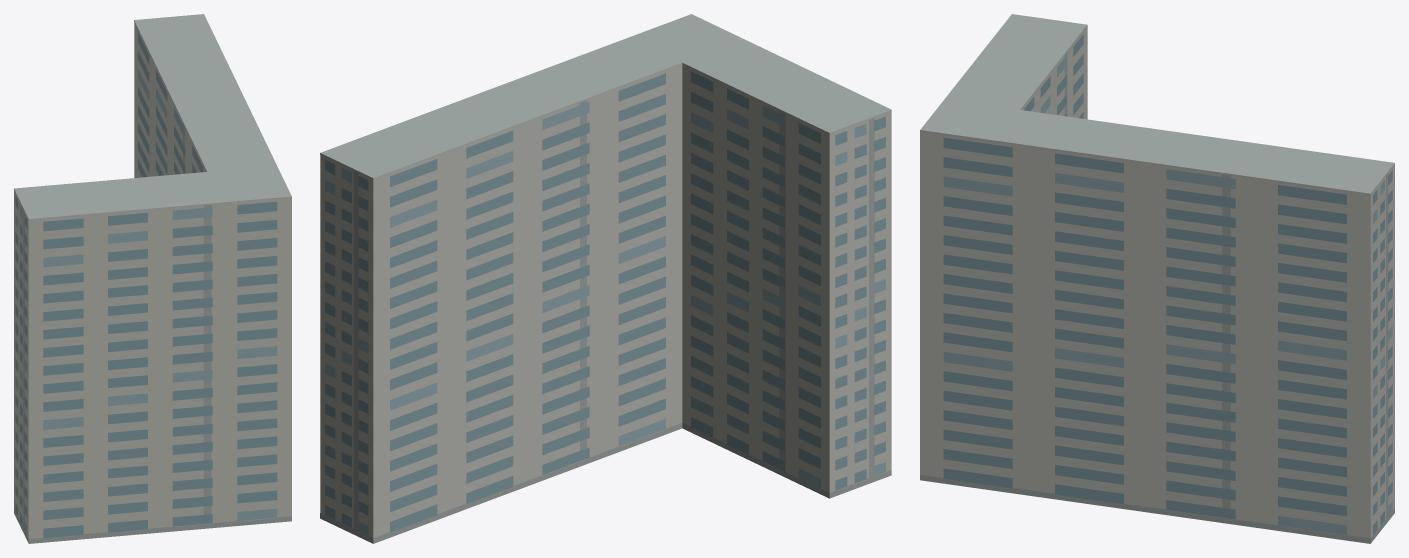
Rendered from residential-3fad8700-8748-481a-b154-72b1824b298a.glb.
The picture shows the model from 3 angles, left to right: view 1: azimuth 30°, elevation 25°; view 2: azimuth 150°, elevation 25°; view 3: azimuth 270°, elevation 25°; orthographic projection. The views are drawn at different scales.
Parts seen in each view (by area): view 1: residential-3fad8700-8748-481a-b154-72b1824b298a.tmp; view 2: residential-3fad8700-8748-481a-b154-72b1824b298a.tmp; view 3: residential-3fad8700-8748-481a-b154-72b1824b298a.tmp.
Boxes of the visible parts, box(x1,y1,x2,y2) form: residential-3fad8700-8748-481a-b154-72b1824b298a.tmp: box(14, 14, 291, 543); residential-3fad8700-8748-481a-b154-72b1824b298a.tmp: box(320, 14, 891, 543); residential-3fad8700-8748-481a-b154-72b1824b298a.tmp: box(920, 14, 1394, 543).
Bounding box in the file's own units: 57.21 × 52 × 63.89.
